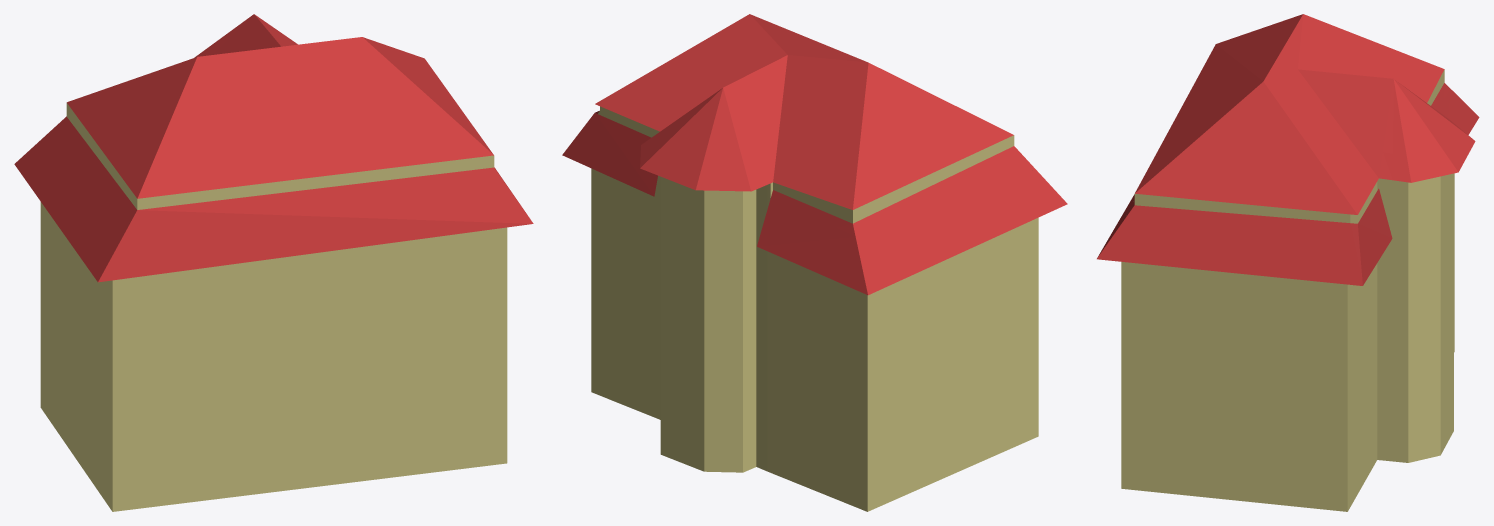
The picture shows the model from 3 angles, left to right: view 1: azimuth 30°, elevation 25°; view 2: azimuth 150°, elevation 25°; view 3: azimuth 270°, elevation 25°; orthographic projection. The views are drawn at different scales.
Visible parts, largest first — view 1: group_5, group_7, group_3, group_4, group_9; view 2: group_5, group_9, group_7, group_4, group_3, group_8; view 3: group_5, group_7, group_9, group_3, group_4, group_8.
Part boxes in pixels (<box>): group_5: <box>40,202,507,511</box>; group_7: <box>67,14,493,198</box>; group_3: <box>15,116,532,282</box>; group_4: <box>14,144,533,281</box>; group_9: <box>66,103,494,209</box>; group_5: <box>591,111,1038,511</box>; group_9: <box>600,106,1014,472</box>; group_7: <box>604,14,1013,209</box>; group_4: <box>565,111,1067,295</box>; group_3: <box>562,112,1064,294</box>; group_8: <box>595,98,750,190</box>; group_5: <box>1121,173,1454,511</box>; group_7: <box>1135,14,1475,214</box>; group_9: <box>1134,69,1453,506</box>; group_3: <box>1099,83,1479,285</box>; group_4: <box>1097,89,1478,285</box>; group_8: <box>1350,111,1474,214</box>.
Size of the model in its own units: 17.81 by 13.98 by 15.07.
